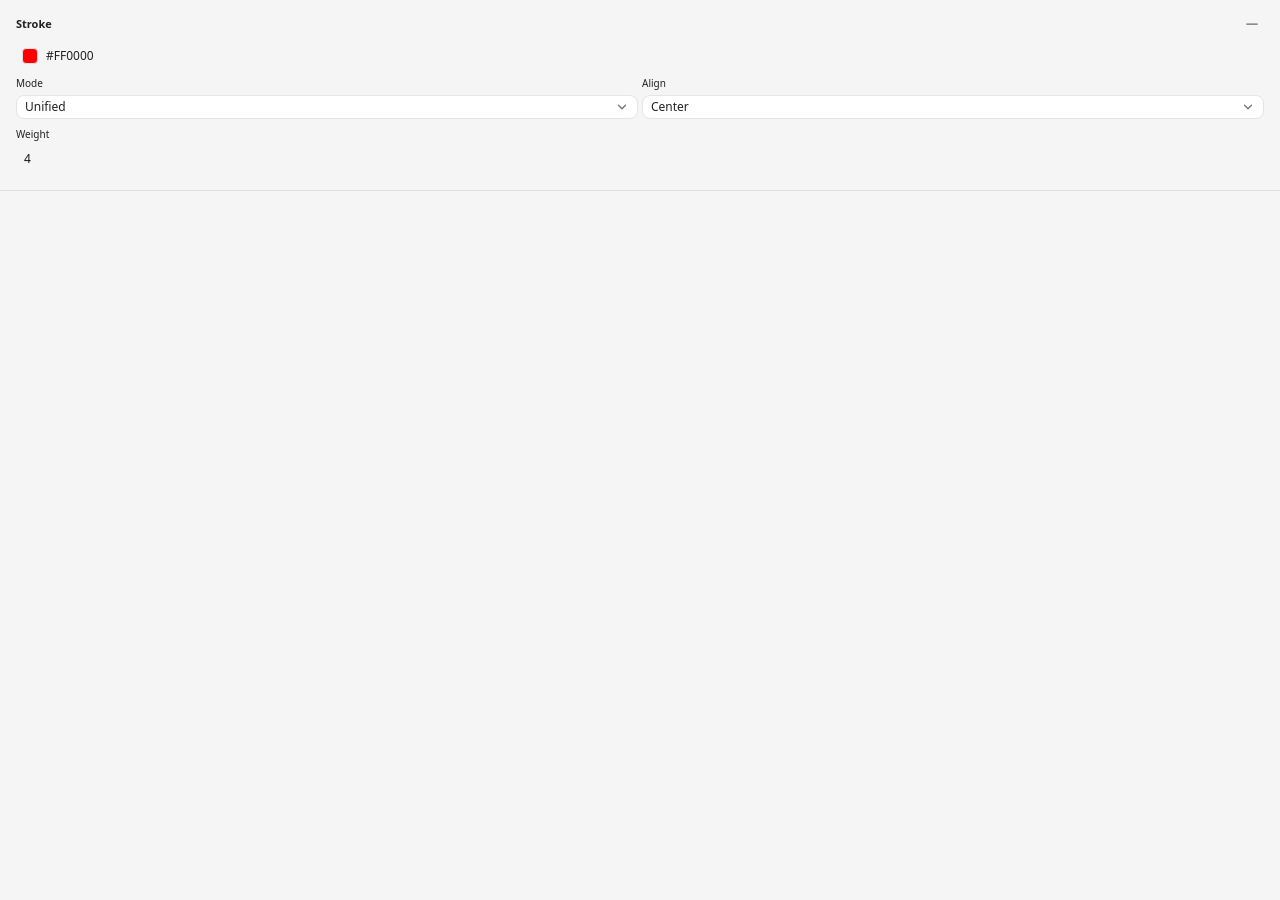
Test: <StrokeSection /> › stroke paint stack › shows a Type selector (Solid/Linear/Radial) for a legacy single-color stroke
Check: the text "Solid" is not shown
Click the button titled "Edit stroke" at (70, 56), box x1=16 y1=44 x2=1264 y2=68
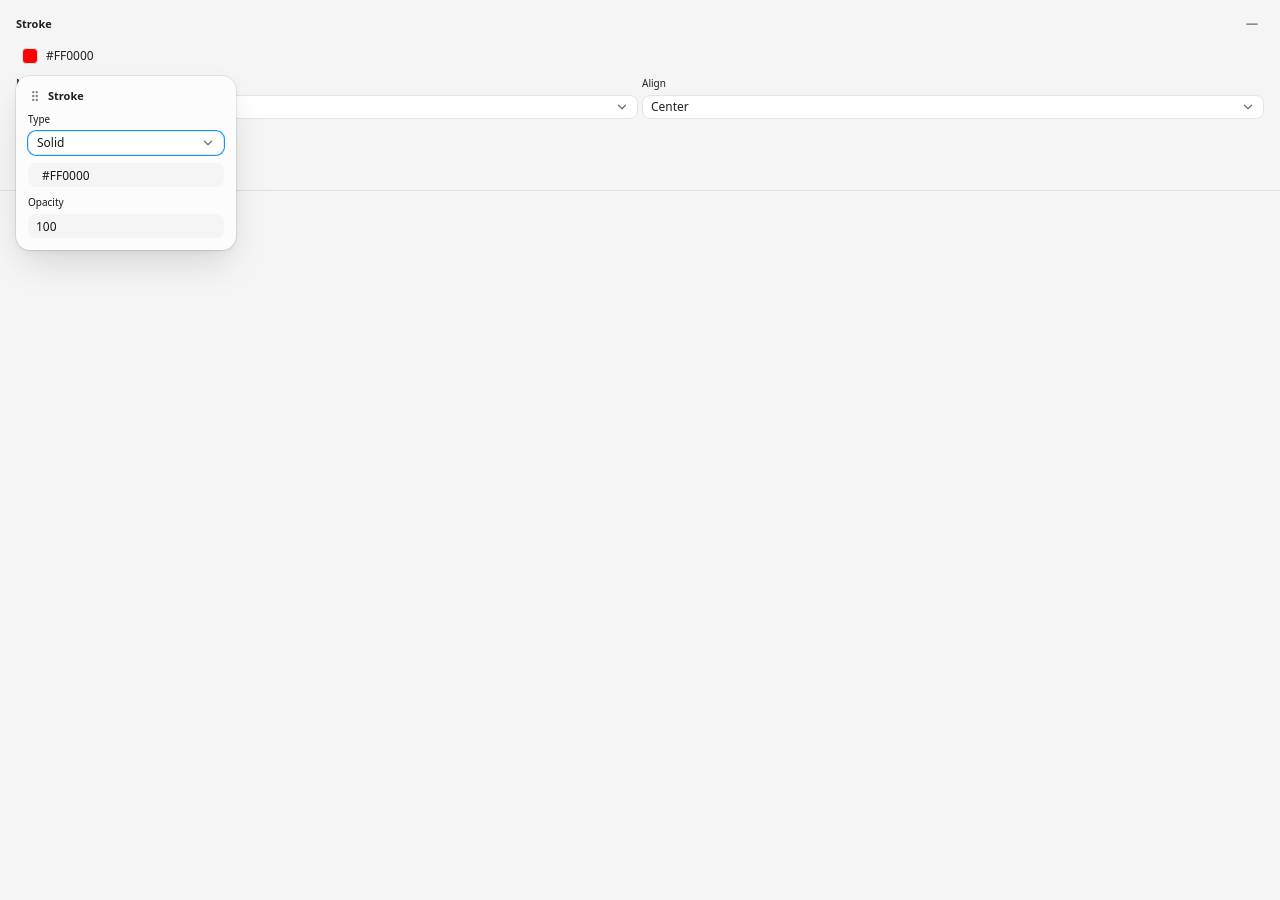
Check: the text "Solid" is shown, box x1=37 y1=134 x2=64 y2=151
